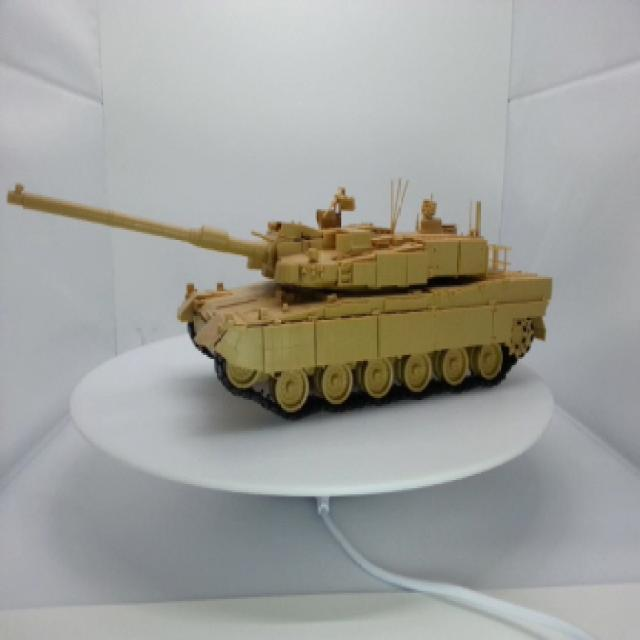korea tank: (5, 168, 583, 431)
